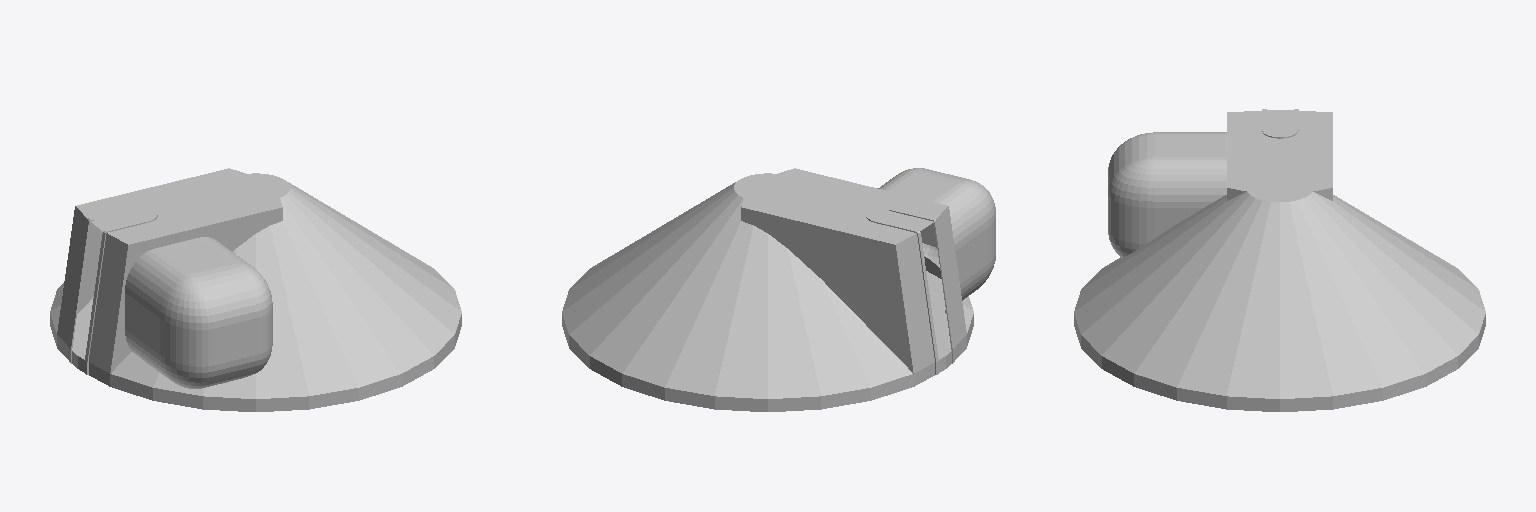
The model's file is turret_base.obj.
The picture shows the model from 3 angles: view 1: azimuth 30°, elevation 25°; view 2: azimuth 150°, elevation 25°; view 3: azimuth 270°, elevation 25°; orthographic projection.
Parts seen in each view (by area): view 1: Mesh1 Model; view 2: Mesh1 Model; view 3: Mesh1 Model.
Part boxes in pixels (x1,y1,x2,y2): Mesh1 Model: (50, 168, 461, 411); Mesh1 Model: (562, 168, 995, 411); Mesh1 Model: (1074, 109, 1485, 411).
Bounding box in the file's own units: 914 × 340 × 914.